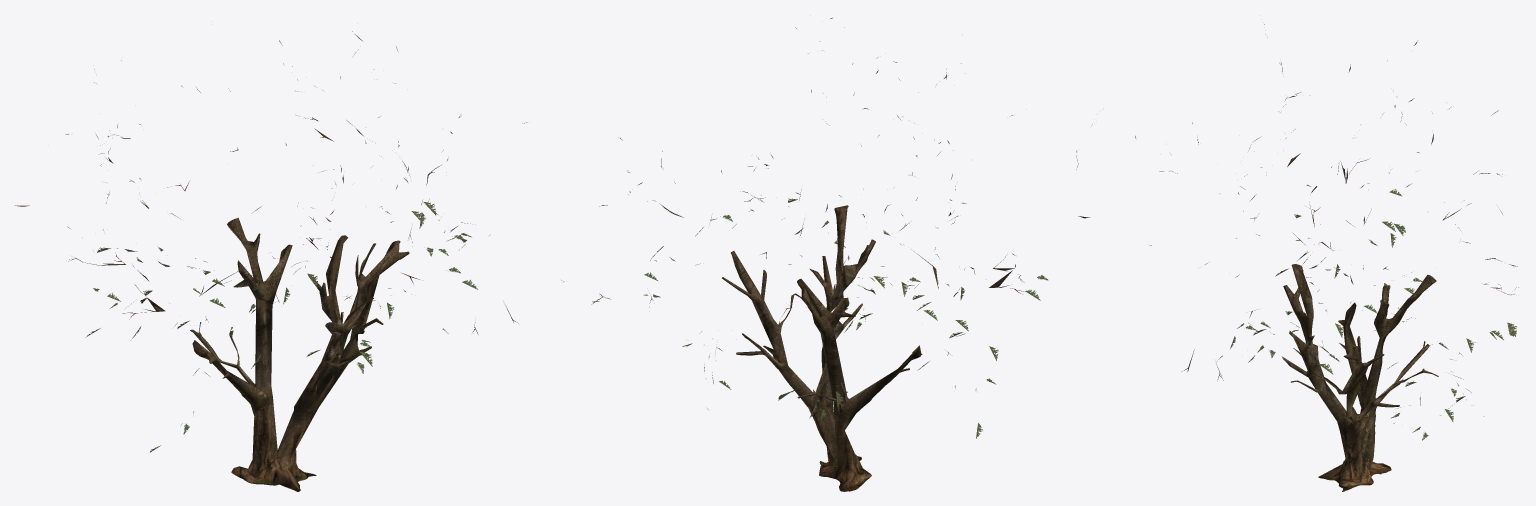
Rendered from jacaranda_tree.glb.
3 views of the same model, side by side, from view 1: azimuth 30°, elevation 25°; view 2: azimuth 150°, elevation 25°; view 3: azimuth 270°, elevation 25° (orthographic). The views are drawn at different scales.
Visible parts, largest first — view 1: jacaranda_tree_LOD0; view 2: jacaranda_tree_LOD0; view 3: jacaranda_tree_LOD0.
Part boxes in pixels (x1=…): jacaranda_tree_LOD0: x1=15, y1=31, x2=526, y2=491; jacaranda_tree_LOD0: x1=561, y1=18, x2=1089, y2=491; jacaranda_tree_LOD0: x1=1135, y1=24, x2=1518, y2=491.
Size of the model in its own units: 21.58 by 18.75 by 15.95.
3 materials, 3 textured.
